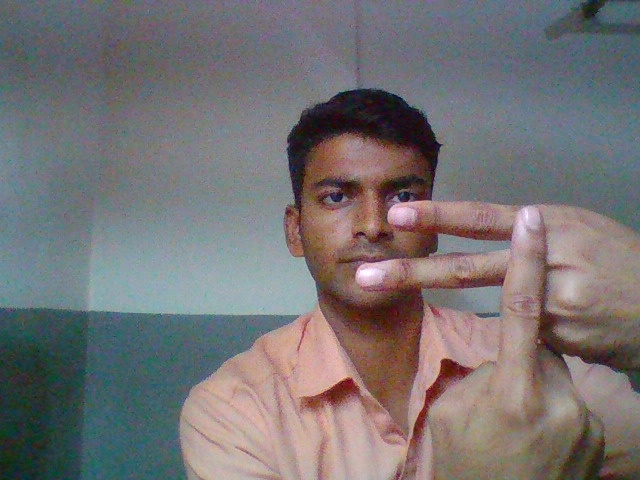K: (352, 182, 640, 438)
